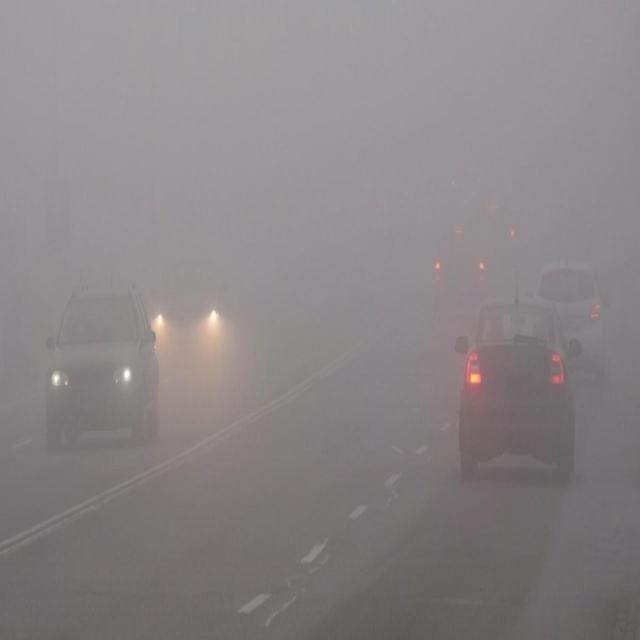Car: (456, 284, 576, 466), (40, 258, 149, 451), (154, 232, 233, 386), (536, 234, 607, 360), (472, 178, 526, 277), (437, 223, 488, 316)
